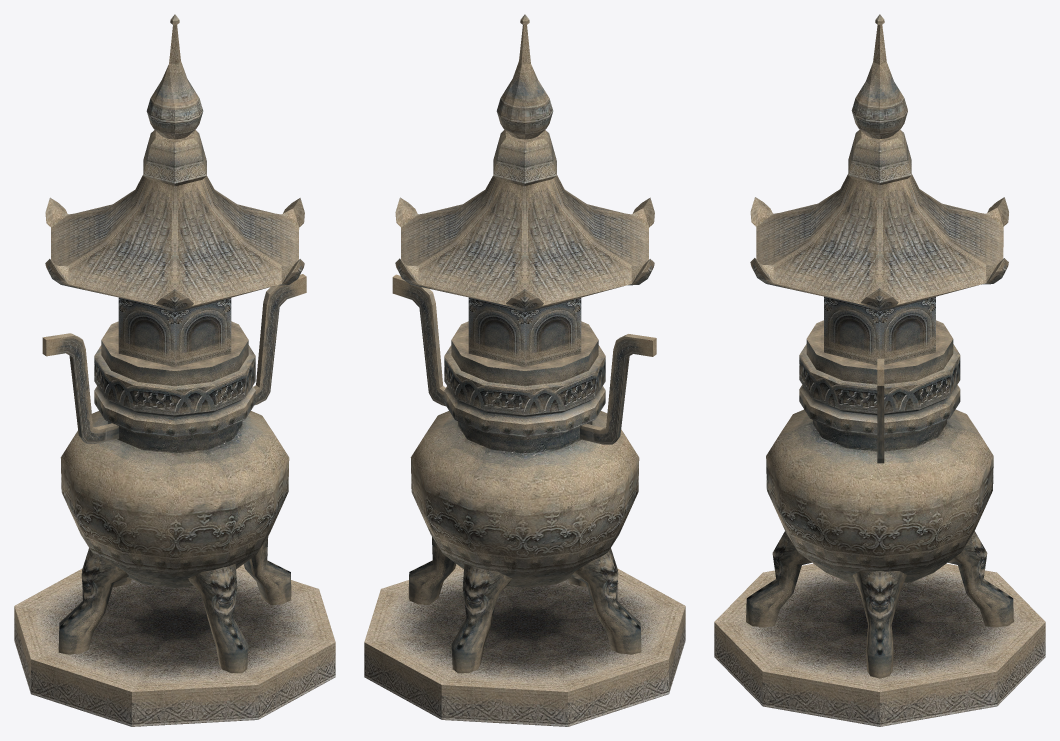
Rendered from desert_brazier.glb.
3 renders of one model, left to right at view 1: azimuth 30°, elevation 25°; view 2: azimuth 150°, elevation 25°; view 3: azimuth 270°, elevation 25°, orthographic.
Parts seen in each view (by area): view 1: desert_brazier_02, desert_brazier_01; view 2: desert_brazier_02, desert_brazier_01; view 3: desert_brazier_02, desert_brazier_01.
Boxes of the visible parts, box(x1,y1,x2,y2) form: desert_brazier_02: box(14, 14, 335, 726); desert_brazier_01: box(42, 274, 306, 587); desert_brazier_02: box(364, 14, 685, 726); desert_brazier_01: box(392, 274, 656, 587); desert_brazier_02: box(714, 14, 1045, 726); desert_brazier_01: box(766, 320, 993, 583).
Size of the model in its own units: 2.06 by 4.42 by 2.06.
Materials: 2 (2 with a texture image).
